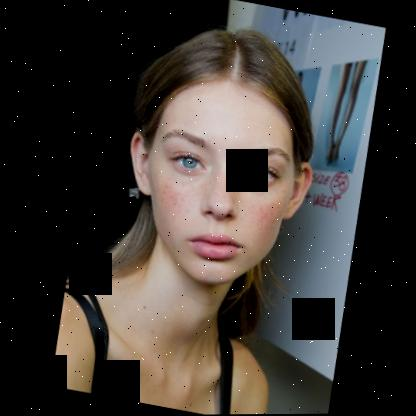Female: (102, 66, 328, 298)
